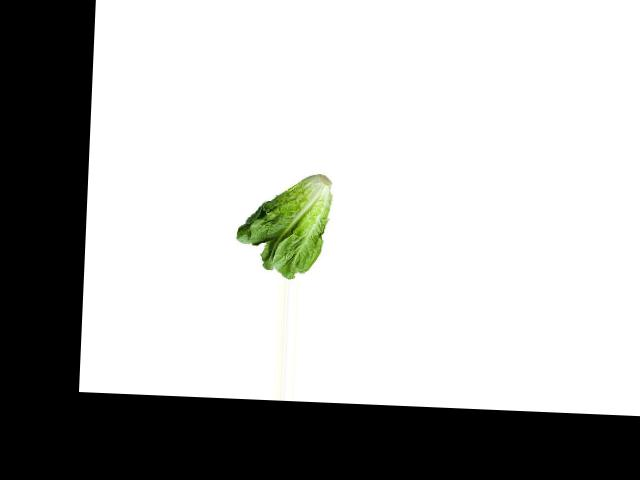lettuce: (231, 171, 336, 282)
